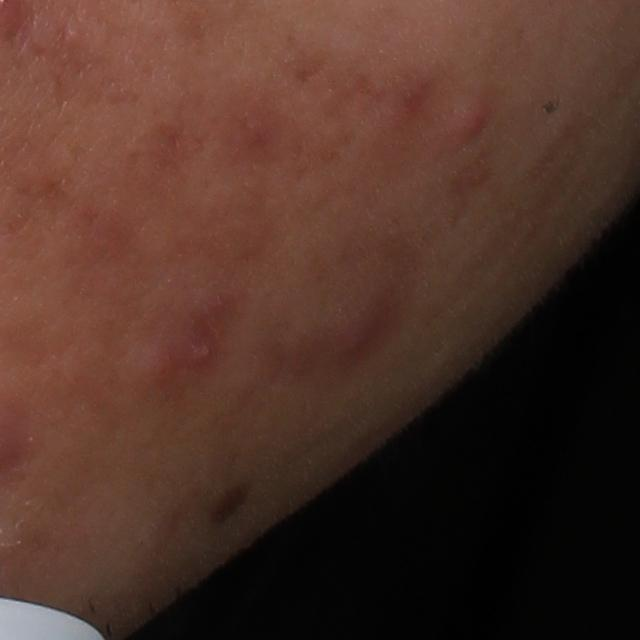nevus: (211, 479, 254, 525)
papule: (128, 340, 188, 393), (448, 98, 492, 147)
